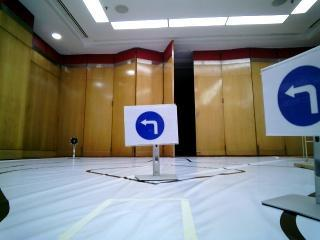left: (262, 68, 320, 137), (124, 110, 180, 146)
